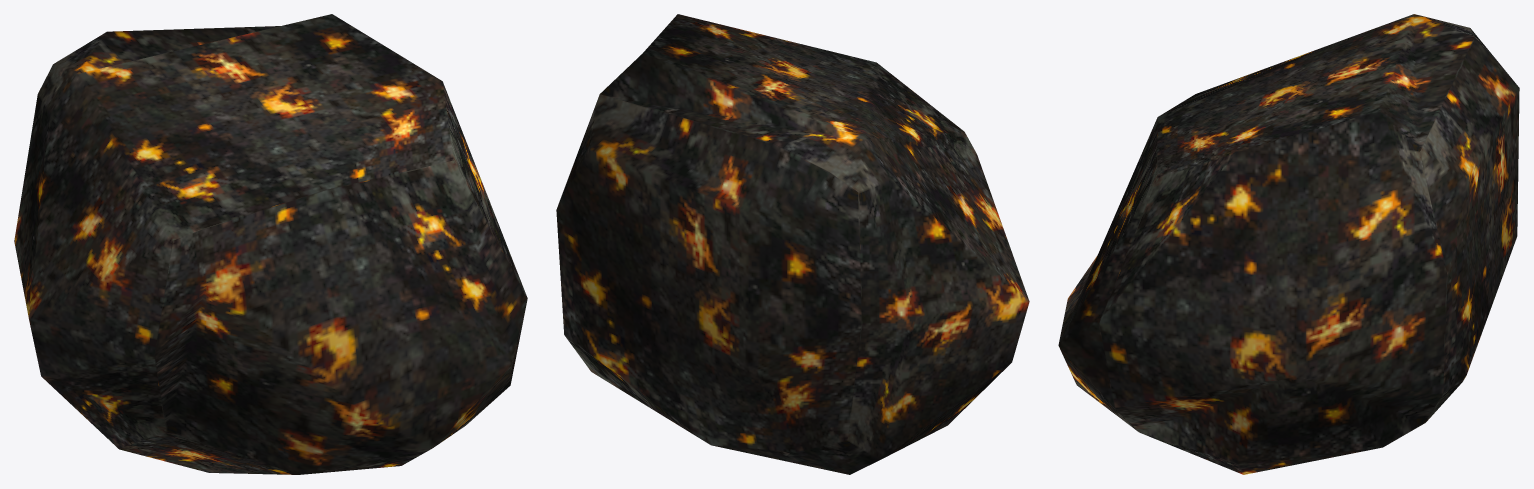
The model's file is asteroid_moltenrock_small_s02_l2.fbx.
3 renders of one model, left to right at view 1: azimuth 30°, elevation 25°; view 2: azimuth 150°, elevation 25°; view 3: azimuth 270°, elevation 25°, orthographic. The views are drawn at different scales.
Visible parts, largest first — view 1: mesh_node; view 2: mesh_node; view 3: mesh_node.
Part boxes in pixels (box(x1,y1,x2,y2)): mesh_node: box(14, 14, 527, 474); mesh_node: box(556, 14, 1029, 474); mesh_node: box(1058, 14, 1519, 474).
Bounding box in the file's own units: 29.32 × 23.02 × 25.99.
Materials: 1 (1 with a texture image).
